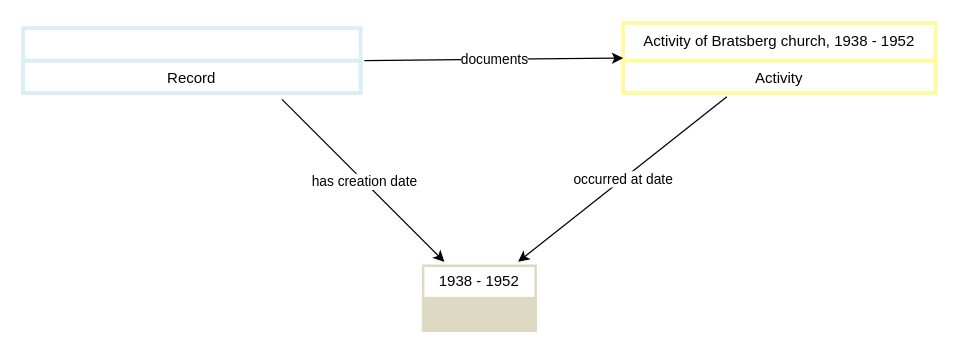
Image size: 959x356. Some labels were removed from this diagram. Here are the shapes that lost their labels. From the top down, the box of each, then its label:
(21, 26, 362, 94): Parish register for Bratsberg church, 1938-1952
(421, 296, 536, 331): Date
